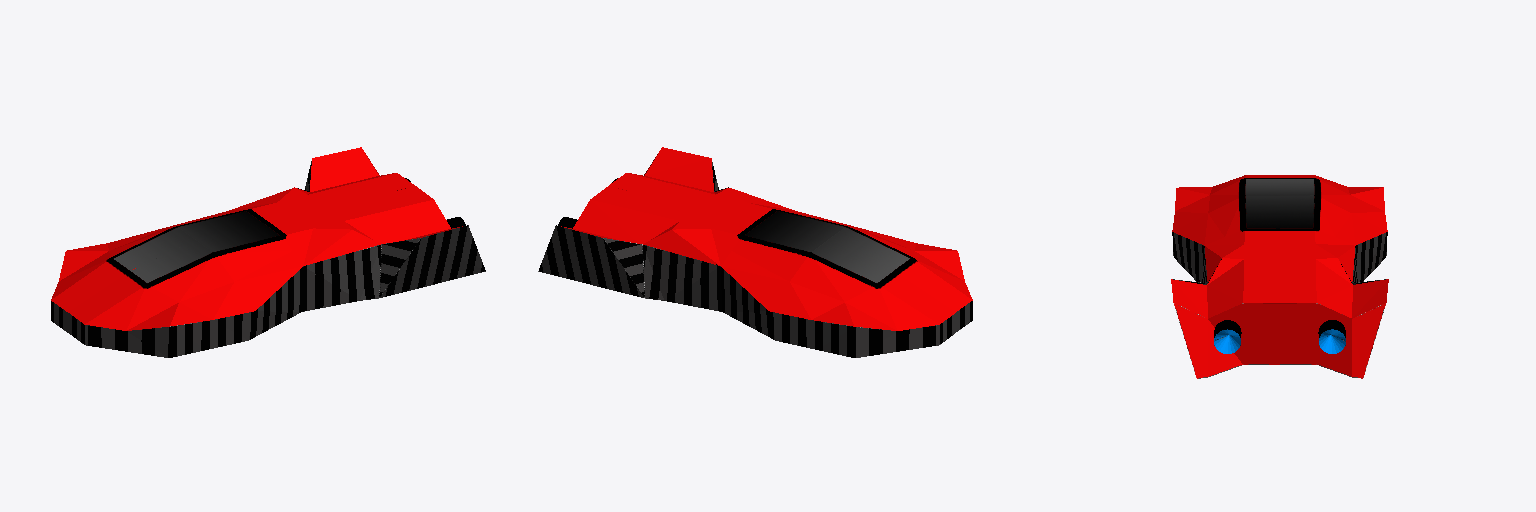
3 views of the same model, side by side, from view 1: azimuth 30°, elevation 25°; view 2: azimuth 150°, elevation 25°; view 3: azimuth 270°, elevation 25° (orthographic).
Parts seen in each view (by area): view 1: polySurface4; view 2: polySurface4; view 3: polySurface4.
Part boxes in pixels (bbox=[...]): polySurface4: bbox=[51, 147, 485, 357]; polySurface4: bbox=[538, 147, 972, 357]; polySurface4: bbox=[1171, 175, 1388, 378].
Size of the model in its own units: 13.95 by 2.19 by 6.98.
1 materials, 1 textured.